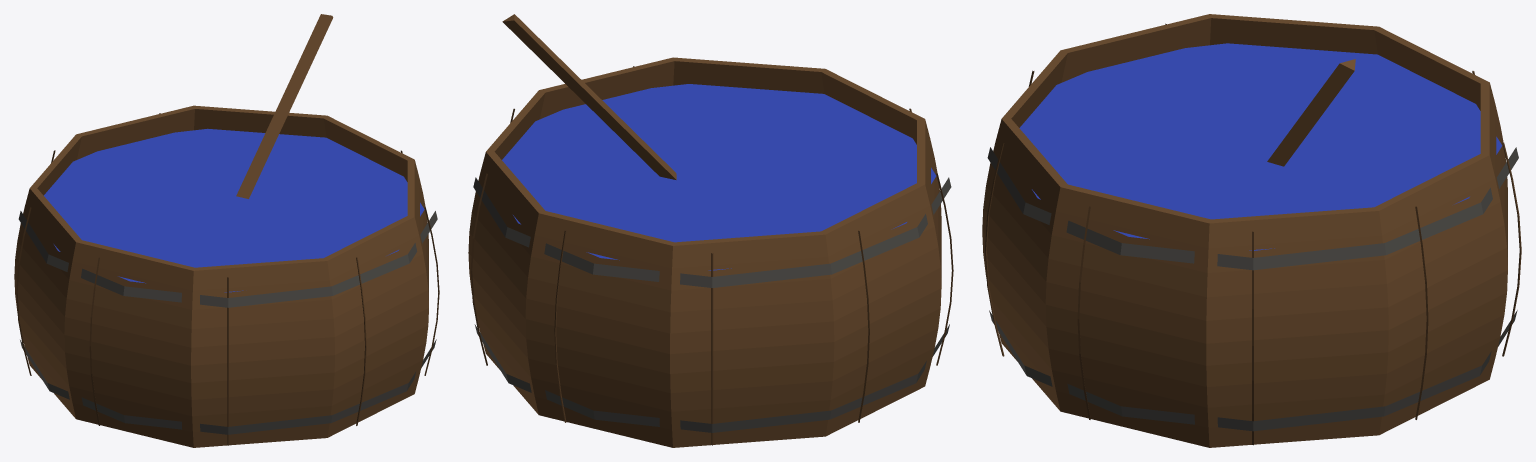
File: dye-vat-a.glb
3 views of the same model, side by side, from view 1: azimuth 30°, elevation 25°; view 2: azimuth 150°, elevation 25°; view 3: azimuth 270°, elevation 25° (orthographic). The views are drawn at different scales.
Visible parts, largest first — view 1: Body_Wood, Body_Liquid, Body_Iron, Body_WoodDark; view 2: Body_Wood, Body_Liquid, Body_Iron, Body_WoodDark; view 3: Body_Wood, Body_Liquid, Body_Iron, Body_WoodDark.
Part boxes in pixels (<box>): Body_Wood: <box>14,14,428,447</box>; Body_Liquid: <box>44,128,424,292</box>; Body_Iron: <box>18,211,437,434</box>; Body_WoodDark: <box>16,113,439,445</box>; Body_Wood: <box>468,14,941,447</box>; Body_Liquid: <box>502,84,936,270</box>; Body_Iron: <box>473,177,951,432</box>; Body_WoodDark: <box>470,66,953,445</box>; Body_Wood: <box>982,14,1507,447</box>; Body_Liquid: <box>1019,43,1502,250</box>; Body_Iron: <box>987,147,1518,431</box>; Body_WoodDark: <box>985,23,1521,445</box>.
Bounding box in the file's own units: 1.2 × 0.9 × 1.2.
